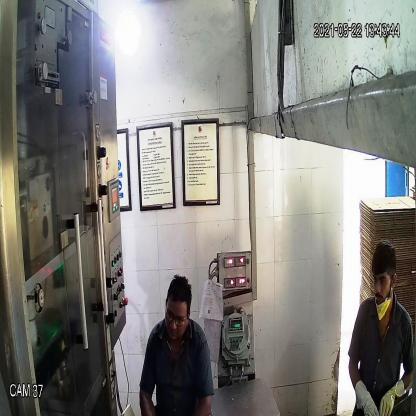goggles: (161, 306, 189, 329)
no_goggles: (371, 272, 393, 290)
